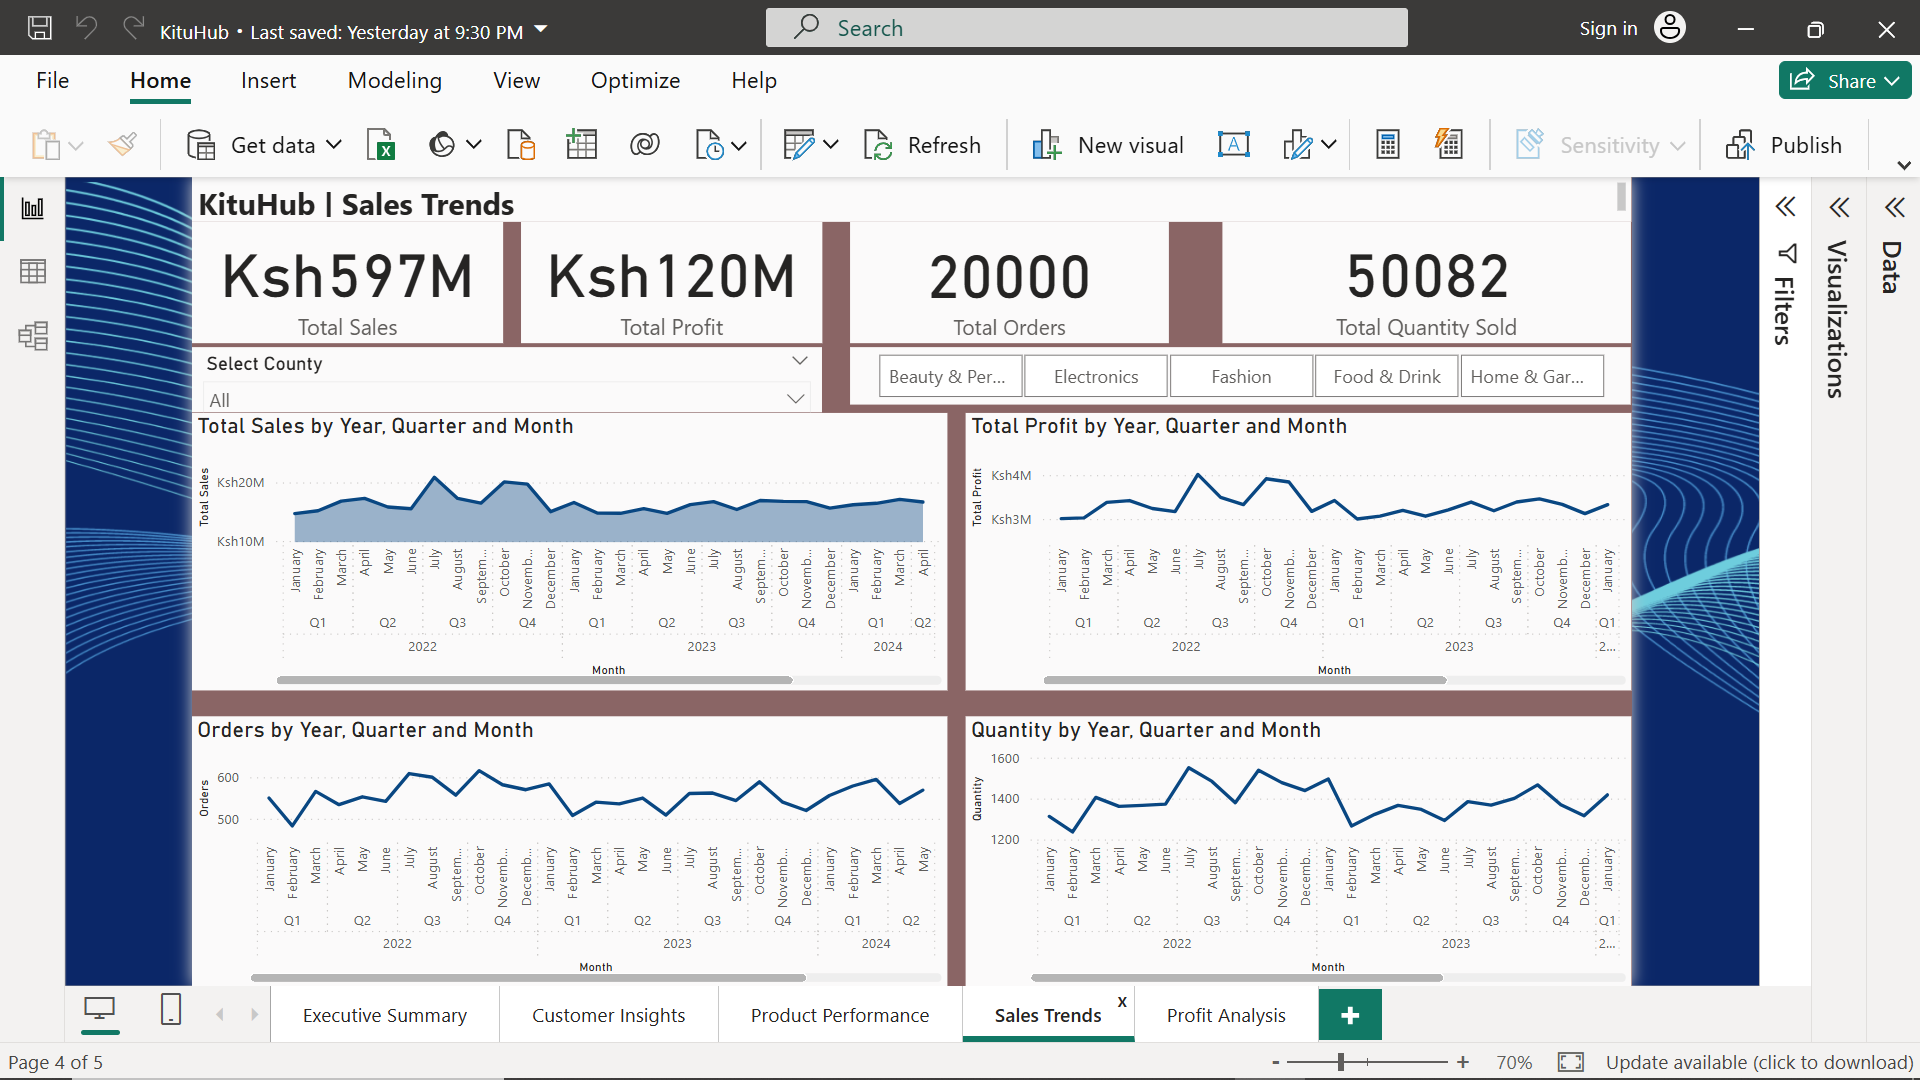

This screenshot's page, from the dashboard's own definition file:
{"tool":"powerbi","page":{"name":"Sales Trends","canvas":[1280,720],"ordinal":3},"visuals":[{"type":"textbox","box":[0,0,1280,40],"z":0},{"type":"card","fields":{"Values":["Sum(sales.OrderTotal (KES))"]},"box":[0,40.5,276.7,107.5],"z":1000},{"type":"card","fields":{"Values":["CountNonNull(sales.OrderID)"]},"box":[585.1,40.5,283.7,107.5],"z":2000},{"type":"card","fields":{"Values":["Sum(sales.Quantity)"]},"box":[916.4,40.5,363,107.5],"z":3000},{"type":"card","fields":{"Values":["Sum(sales.Profit)"]},"box":[292.5,40.5,267.9,107.5],"z":4000},{"type":"areaChart","fields":{"Category":["sales.Order Date Hierarchy.Year","sales.Order Date Hierarchy.Quarter","sales.Order Date Hierarchy.Month Name"],"Y":["_Measures.Total Sales"]},"box":[0,209.7,671.5,246.7],"z":5000},{"type":"lineChart","fields":{"Y":["Count(sales.OrderID)"],"Category":["sales.Order Date Hierarchy.Year","sales.Order Date Hierarchy.Quarter","sales.Order Date Hierarchy.Month"]},"box":[0,479.4,671.5,241.4],"z":6000},{"type":"lineChart","fields":{"Y":["Sum(sales.Profit)"],"Category":["sales.Order Date Hierarchy.Year","sales.Order Date Hierarchy.Quarter","sales.Order Date Hierarchy.Month"]},"box":[687.3,209.7,592.1,246.7],"z":7000},{"type":"lineChart","fields":{"Y":["Sum(sales.Quantity)"],"Category":["sales.Order Date Hierarchy.Year","sales.Order Date Hierarchy.Quarter","sales.Order Date Hierarchy.Month"]},"box":[687.3,479.4,592.1,241.4],"z":8000},{"type":"slicer","fields":{"Values":["Products.Category"]},"box":[585.1,151.6,694.4,51.1],"z":9000},{"type":"slicer","fields":{"Values":["sales.DeliveryCounty"]},"box":[0,151.6,560.4,58.2],"z":10000}]}

Visuals, with their boxes on the page's 1280x720 design canvas (x1, y1, x2, y2). These are canvas units, not pixel positions in the 1920x1080 screenshot, which may show the page scaled, cropped or inside an application window:
textbox: [0,0,1280,40]
card - Sum(sales.OrderTotal (KES)): [0,40,277,148]
card - CountNonNull(sales.OrderID): [585,40,869,148]
card - Sum(sales.Quantity): [916,40,1279,148]
card - Sum(sales.Profit): [292,40,560,148]
areaChart - sales.Order Date Hierarchy.Year x sales.Order Date Hierarchy.Quarter: [0,210,672,456]
lineChart - Count(sales.OrderID) x sales.Order Date Hierarchy.Year: [0,479,672,721]
lineChart - Sum(sales.Profit) x sales.Order Date Hierarchy.Year: [687,210,1279,456]
lineChart - Sum(sales.Quantity) x sales.Order Date Hierarchy.Year: [687,479,1279,721]
slicer - Products.Category: [585,152,1280,203]
slicer - sales.DeliveryCounty: [0,152,560,210]
